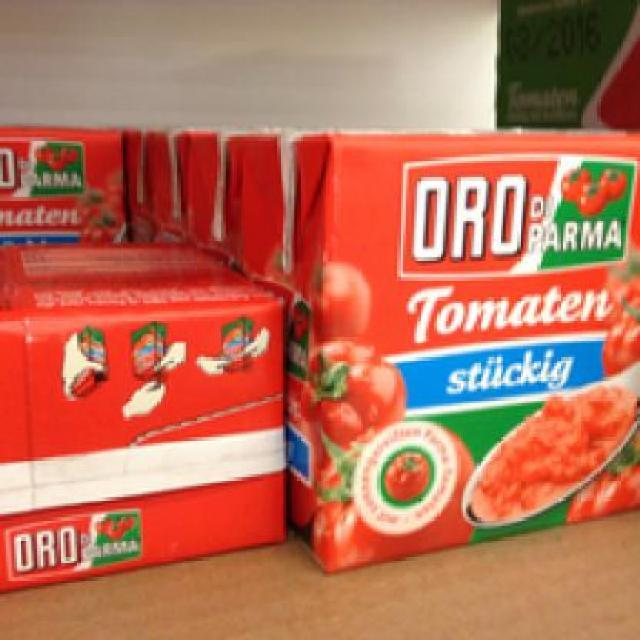Tomato Sauce: (232, 122, 638, 578), (0, 237, 280, 592)
